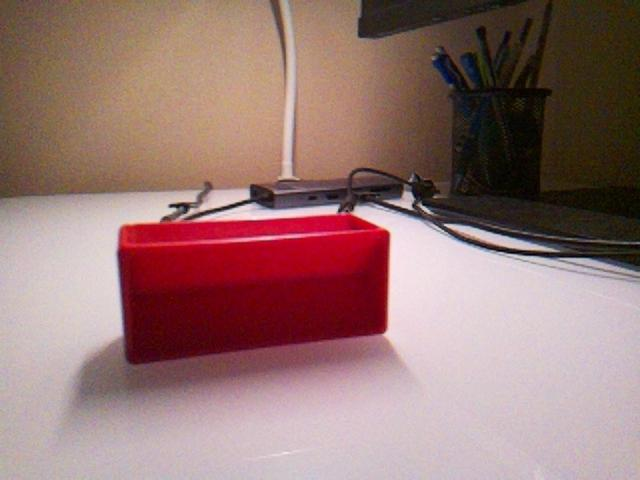red: (116, 212, 392, 365)
